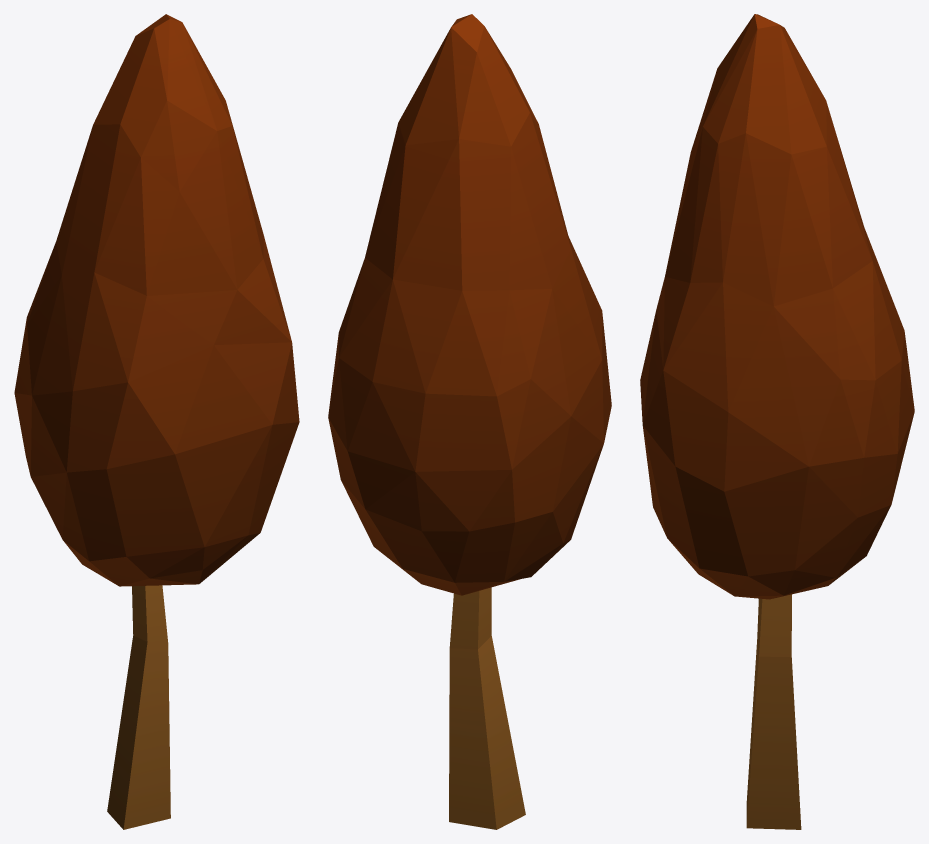
Rendered from Arbol_Hojas3_rojo.fbx.
The picture shows the model from 3 angles, left to right: view 1: azimuth 30°, elevation 25°; view 2: azimuth 150°, elevation 25°; view 3: azimuth 270°, elevation 25°; orthographic projection. The views are drawn at different scales.
Visible parts, largest first — view 1: Tree_small_regular; view 2: Tree_small_regular; view 3: Tree_small_regular.
Part boxes in pixels (<box>): Tree_small_regular: <box>14,14,299,829</box>; Tree_small_regular: <box>328,14,611,829</box>; Tree_small_regular: <box>640,14,914,829</box>.
Bounding box in the file's own units: 230 × 770 × 235.
